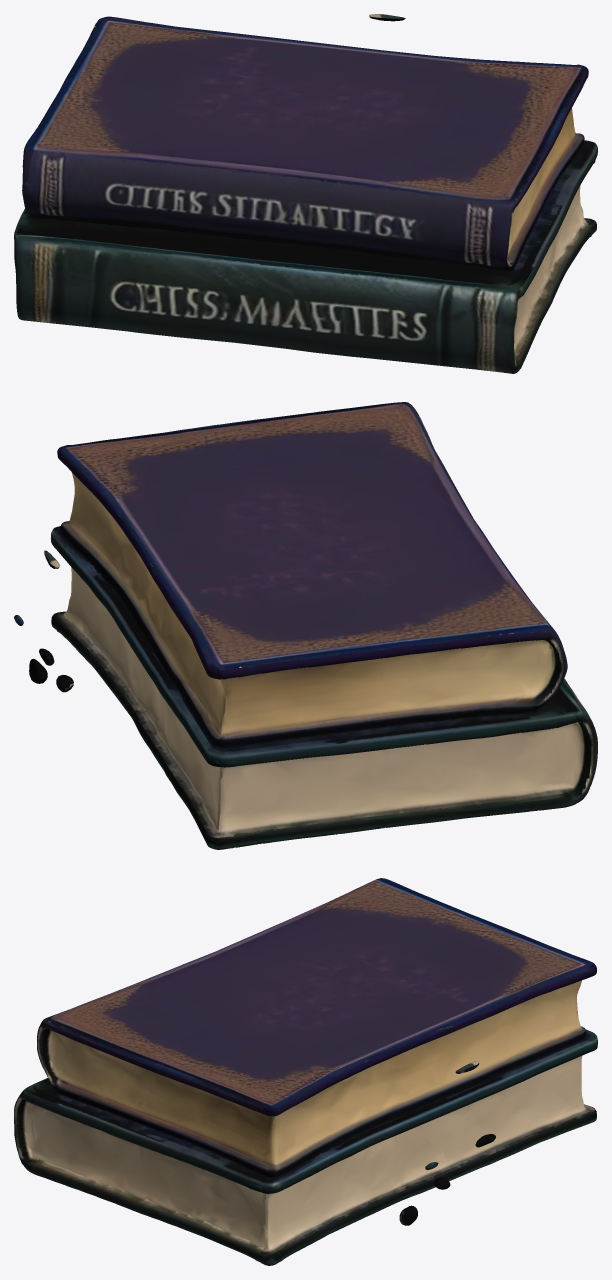
File: books.glb
3 renders of one model, top to bottom at view 1: azimuth 30°, elevation 25°; view 2: azimuth 150°, elevation 25°; view 3: azimuth 270°, elevation 25°, orthographic. The views are drawn at different scales.
Visible parts, largest first — view 1: tmp5ltkijql.ply; view 2: tmp5ltkijql.ply; view 3: tmp5ltkijql.ply.
Boxes of the visible parts, x1,y1,x2,y2 form: tmp5ltkijql.ply: (14, 14, 597, 373); tmp5ltkijql.ply: (14, 402, 597, 849); tmp5ltkijql.ply: (14, 878, 597, 1265).
Size of the model in its own units: 1.96 by 0.5769 by 1.96.
1 material, 1 textured.
